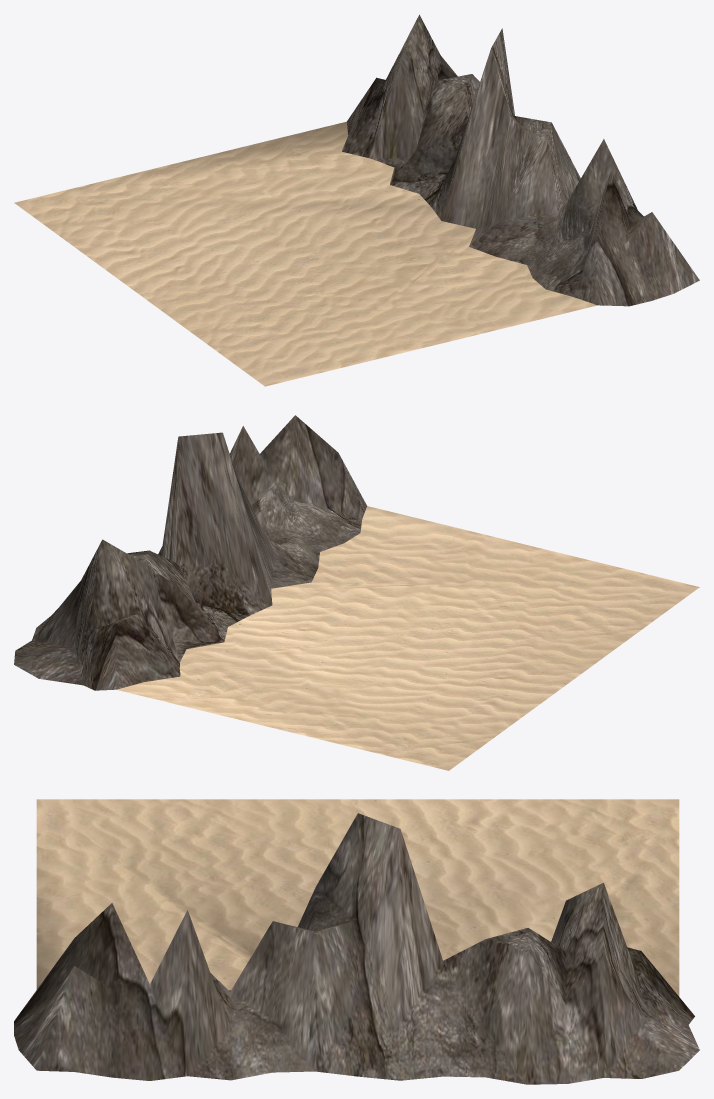
Rendered from onewallroad.fbx.
3 views of the same model, one above another, from view 1: azimuth 30°, elevation 25°; view 2: azimuth 150°, elevation 25°; view 3: azimuth 270°, elevation 25° (orthographic). The views are drawn at different scales.
Parts seen in each view (by area): view 1: onewallroad; view 2: onewallroad; view 3: onewallroad.
Boxes of the visible parts, box(x1,y1,x2,y2) form: onewallroad: box(14, 14, 699, 386); onewallroad: box(14, 415, 699, 770); onewallroad: box(14, 799, 699, 1084).
Size of the model in its own units: 526 by 178 by 534.
